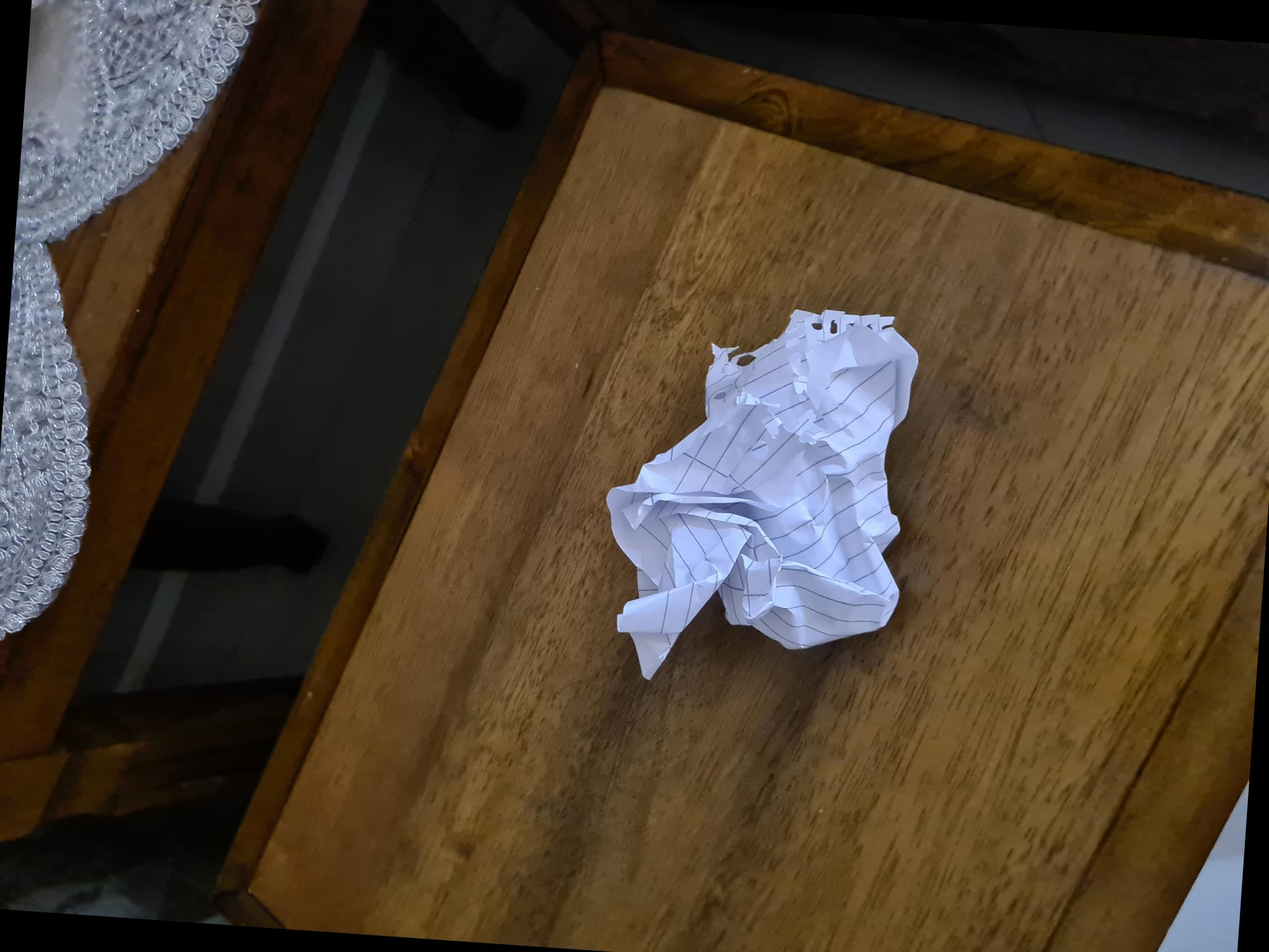Kertas: (264, 595, 631, 906)
